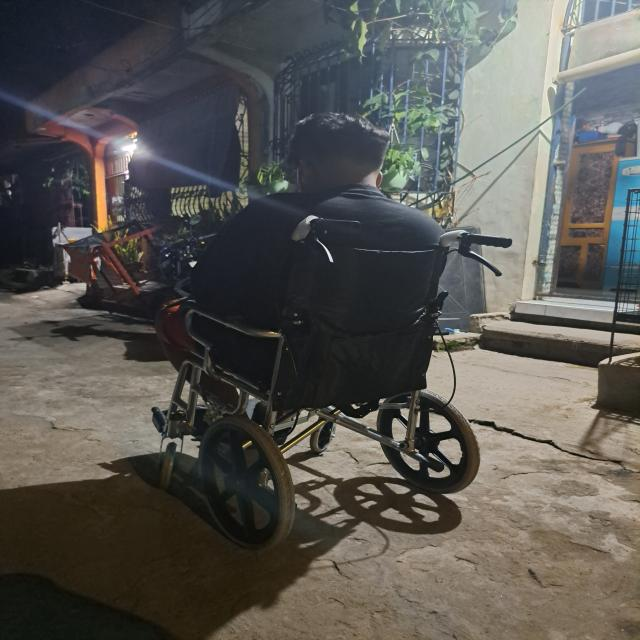wheelchairs: (134, 224, 529, 557)
